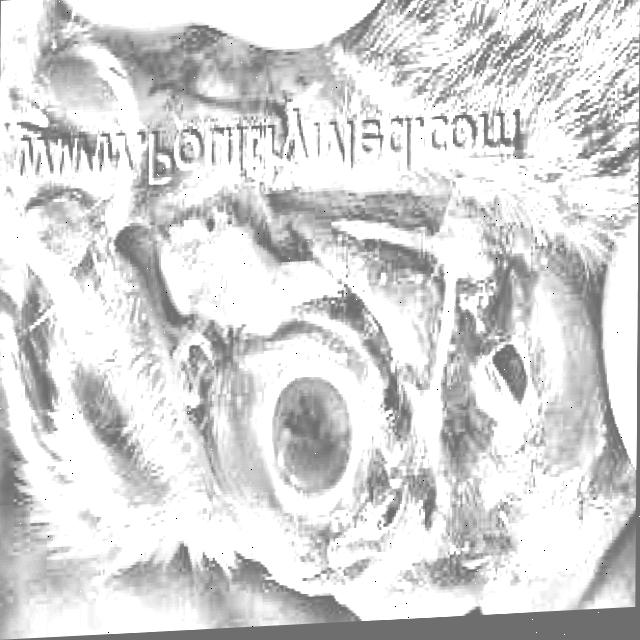Infectios bronchitis: (158, 131, 532, 554)
